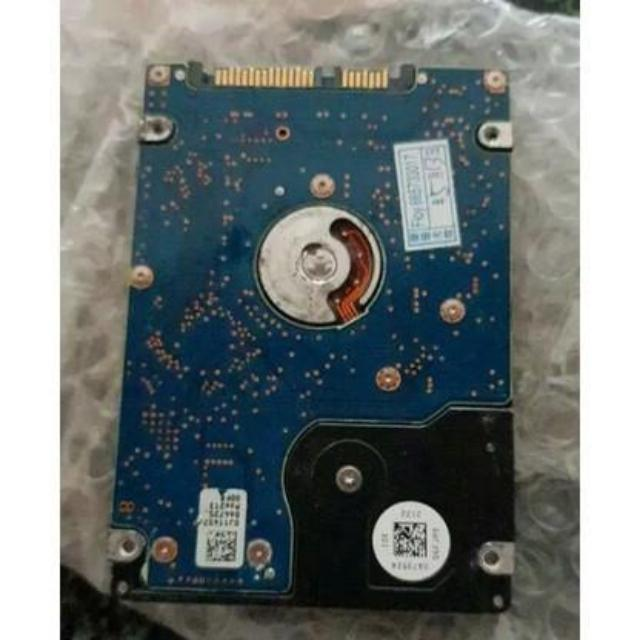DISK: (97, 52, 523, 616)
